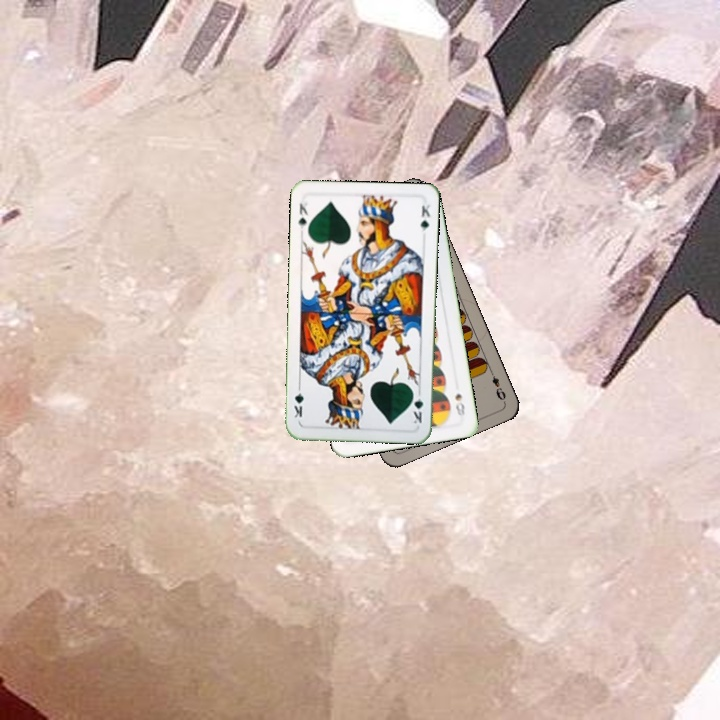E9: (486, 366, 508, 403)
GK: (409, 387, 426, 426), (294, 196, 310, 231)
S8: (451, 389, 467, 418)
